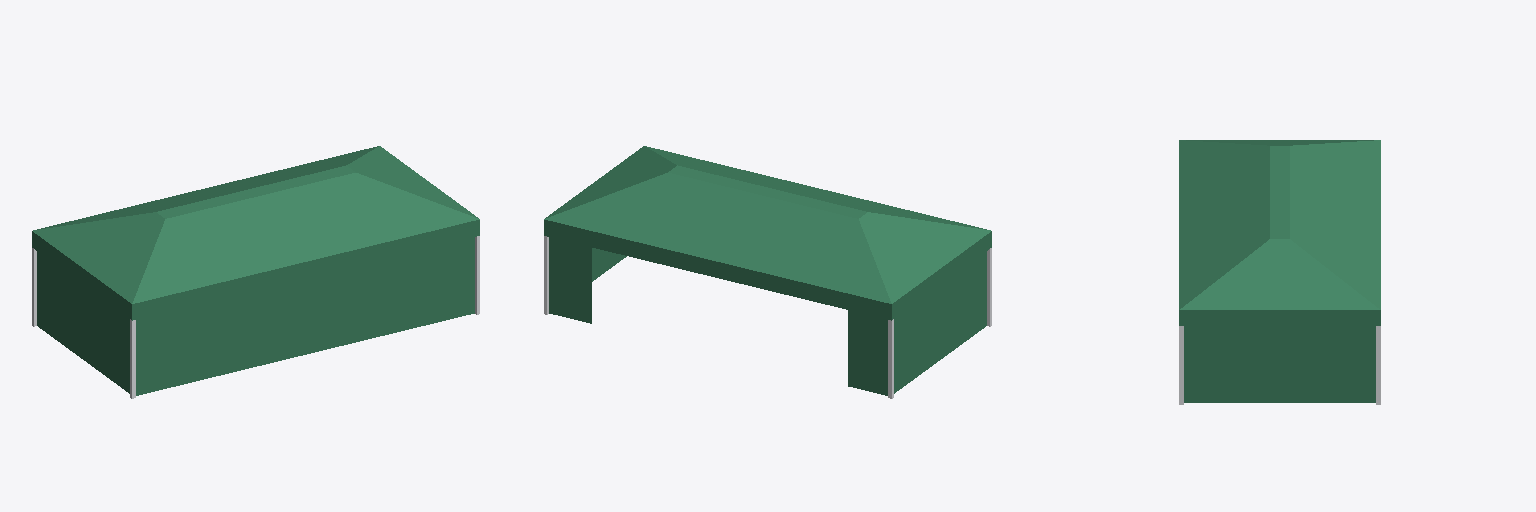
The model's file is tentClosedLong.obj.
The picture shows the model from 3 angles: view 1: azimuth 30°, elevation 25°; view 2: azimuth 150°, elevation 25°; view 3: azimuth 270°, elevation 25°; orthographic projection.
Visible parts, largest first — view 1: tentClosedLong; view 2: tentClosedLong; view 3: tentClosedLong.
Boxes of the visible parts, box(x1,y1,x2,y2) form: tentClosedLong: box(32, 146, 479, 398); tentClosedLong: box(544, 146, 991, 398); tentClosedLong: box(1179, 140, 1380, 404).
Bounding box in the file's own units: 2 × 0.7 × 1.